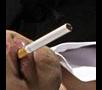Cigarette: (18, 22, 72, 57)
